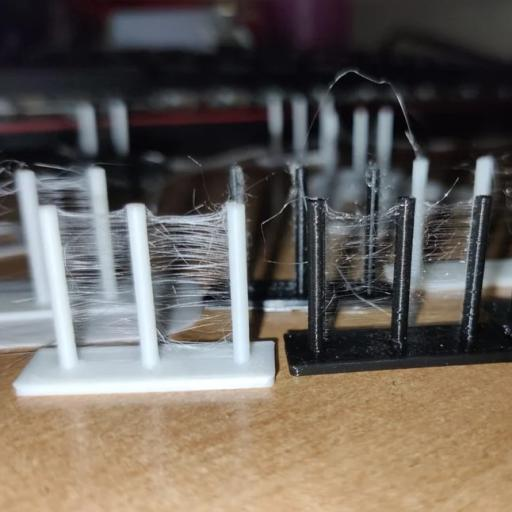stringing: (146, 219, 232, 307), (60, 221, 136, 288), (330, 212, 401, 282), (424, 206, 473, 278)
